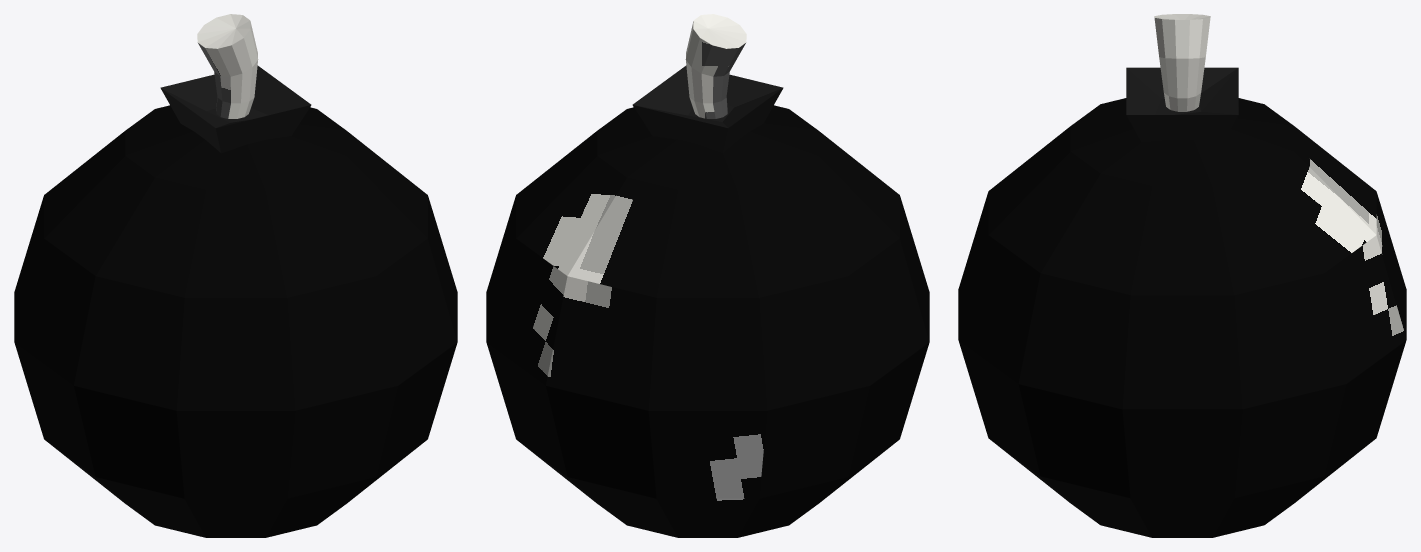
Rendered from Bomb.obj.
The picture shows the model from 3 angles, left to right: view 1: azimuth 30°, elevation 25°; view 2: azimuth 150°, elevation 25°; view 3: azimuth 270°, elevation 25°; orthographic projection.
Parts seen in each view (by area): view 1: sphere, cube, cylinder; view 2: sphere, cube, cylinder; view 3: sphere, cube, cylinder.
Boxes of the visible parts, left/top/right/bottom form: sphere: left=14, top=105, right=457, bottom=537; cube: left=160, top=65, right=311, bottom=153; cylinder: left=197, top=14, right=258, bottom=118; sphere: left=486, top=105, right=929, bottom=537; cube: left=632, top=65, right=783, bottom=153; cylinder: left=685, top=14, right=746, bottom=118; sphere: left=958, top=98, right=1406, bottom=537; cube: left=1126, top=67, right=1238, bottom=142; cylinder: left=1154, top=14, right=1210, bottom=111.
Bounding box in the file's own units: 1 × 1.24 × 1.
3 materials, 3 textured.
